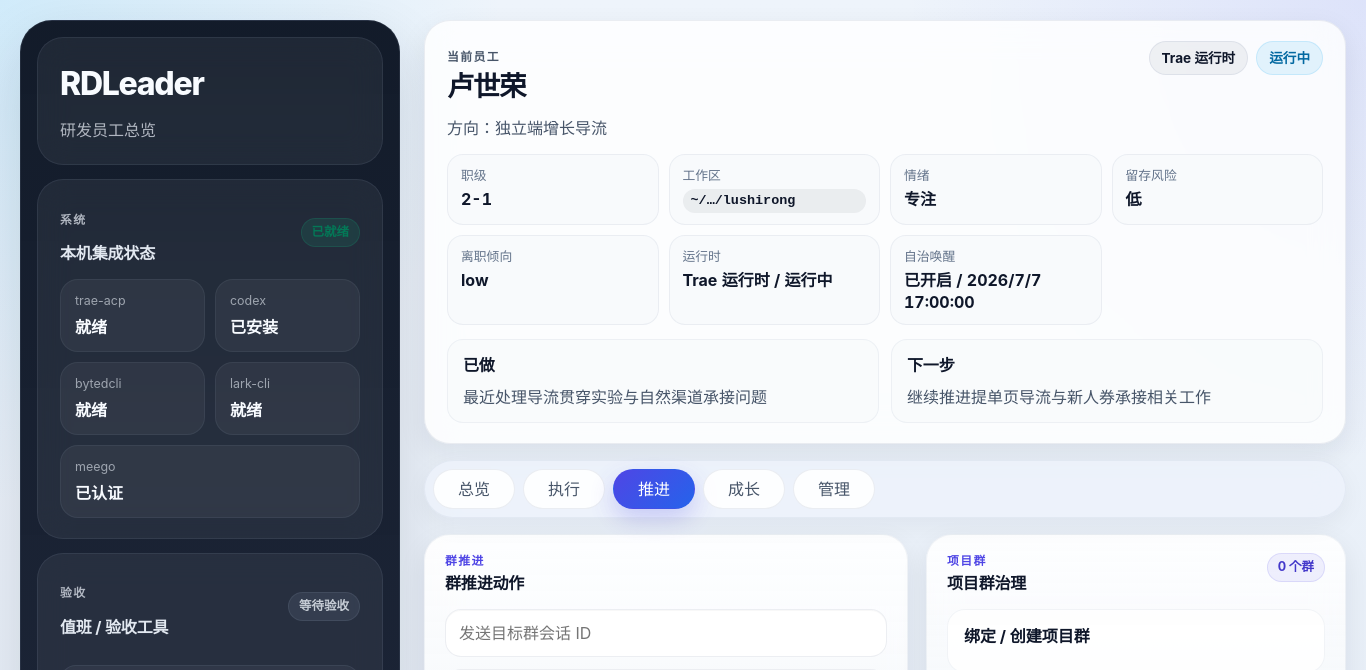
Test: App › loads existing persisted manager conversation history
Click the tab "推进" at (654, 489), box [613,469,695,509]
(page scrolled)
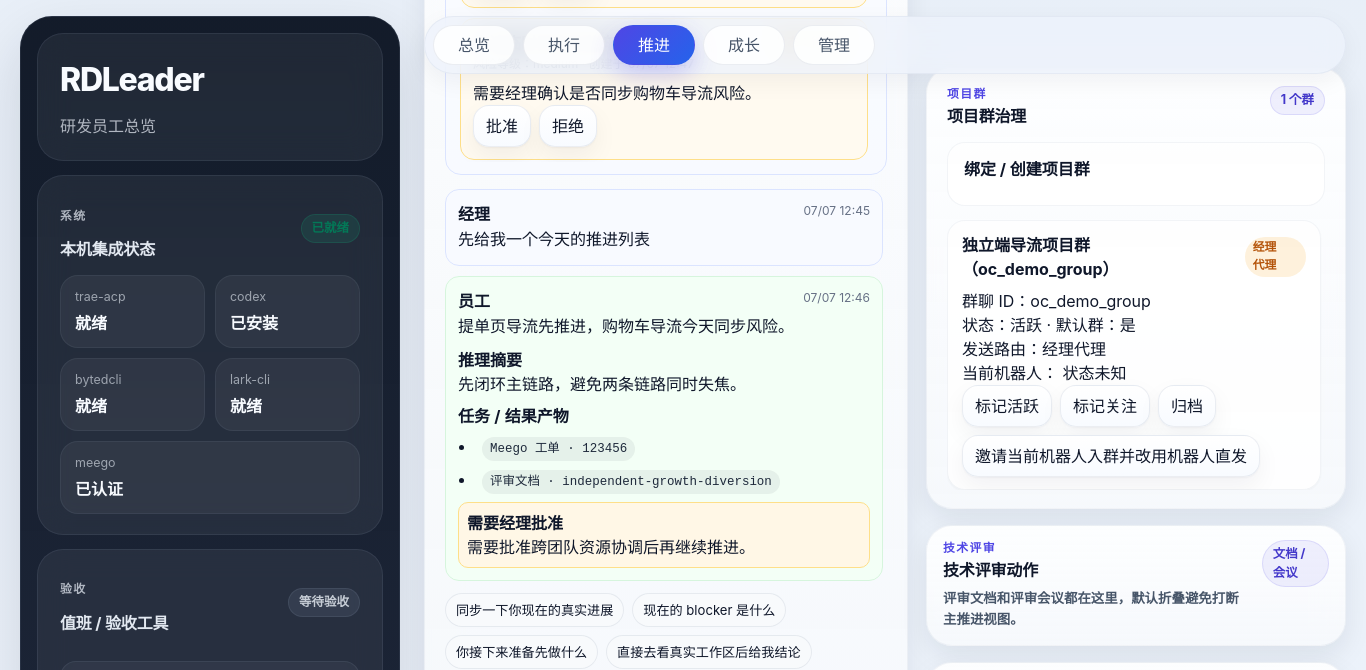
Expected: the text "先给我一个今天的推进列表" is shown, [458,229,650,249]
Expected: the text "提单页导流先推进，购物车导流今天同步风险。" is shown, [458,316,794,336]
Expected: the text "先闭环主链路，避免两条链路同时失焦。" is shown, [458,374,746,394]
